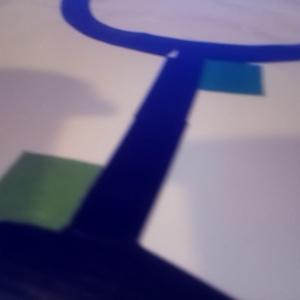bottom_right: (167, 45, 261, 94)
top_left: (1, 151, 137, 268)
